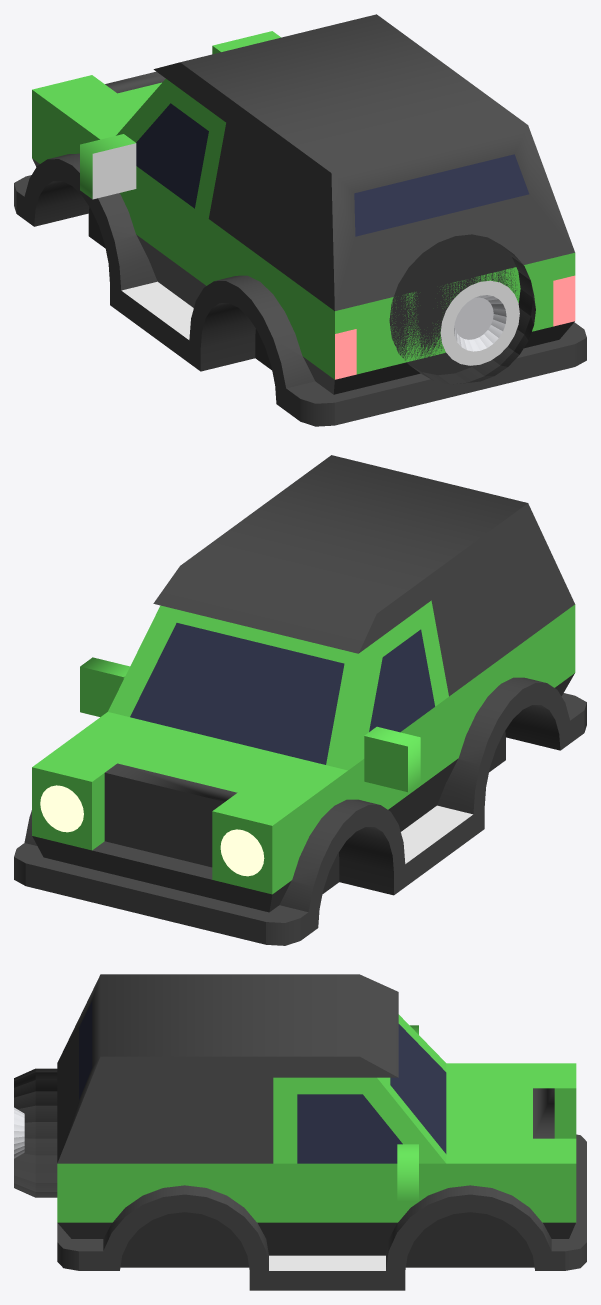
Rendered from SM_SUV_Body.fbx.
The picture shows the model from 3 angles, top to bottom: view 1: azimuth 30°, elevation 25°; view 2: azimuth 150°, elevation 25°; view 3: azimuth 270°, elevation 25°; orthographic projection. The views are drawn at different scales.
Visible parts, largest first — view 1: SM_SUV_Body; view 2: SM_SUV_Body; view 3: SM_SUV_Body.
Part boxes in pixels (x1,y1,x2,y2): SM_SUV_Body: [14, 14, 586, 426]; SM_SUV_Body: [14, 455, 586, 945]; SM_SUV_Body: [14, 974, 586, 1290].
Size of the model in its own units: 1.5 by 1.1 by 2.65.
